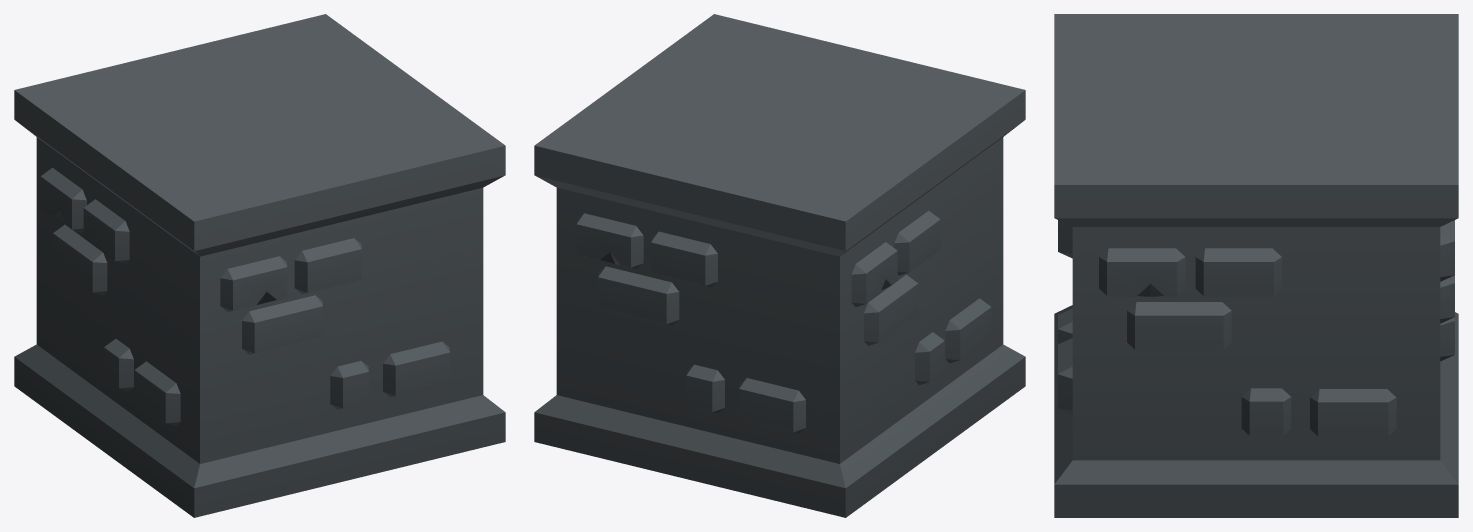
Rendered from floor_foundation_allsides.obj.
The picture shows the model from 3 angles, left to right: view 1: azimuth 30°, elevation 25°; view 2: azimuth 150°, elevation 25°; view 3: azimuth 270°, elevation 25°; orthographic projection. The views are drawn at different scales.
Parts seen in each view (by area): view 1: floor_foundation_allsides; view 2: floor_foundation_allsides; view 3: floor_foundation_allsides.
Boxes of the visible parts, x1,y1,x2,y2 form: floor_foundation_allsides: (14,14,505,517); floor_foundation_allsides: (534,14,1025,517); floor_foundation_allsides: (1054,14,1458,517).
Size of the model in its own units: 2.2 by 2 by 2.2.
Materials: 1 (1 with a texture image).
